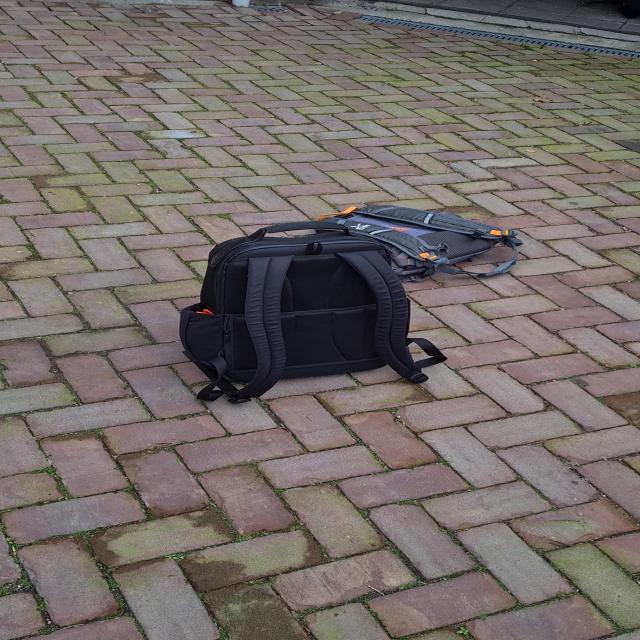backpack: (173, 205, 444, 412), (323, 200, 528, 281)
